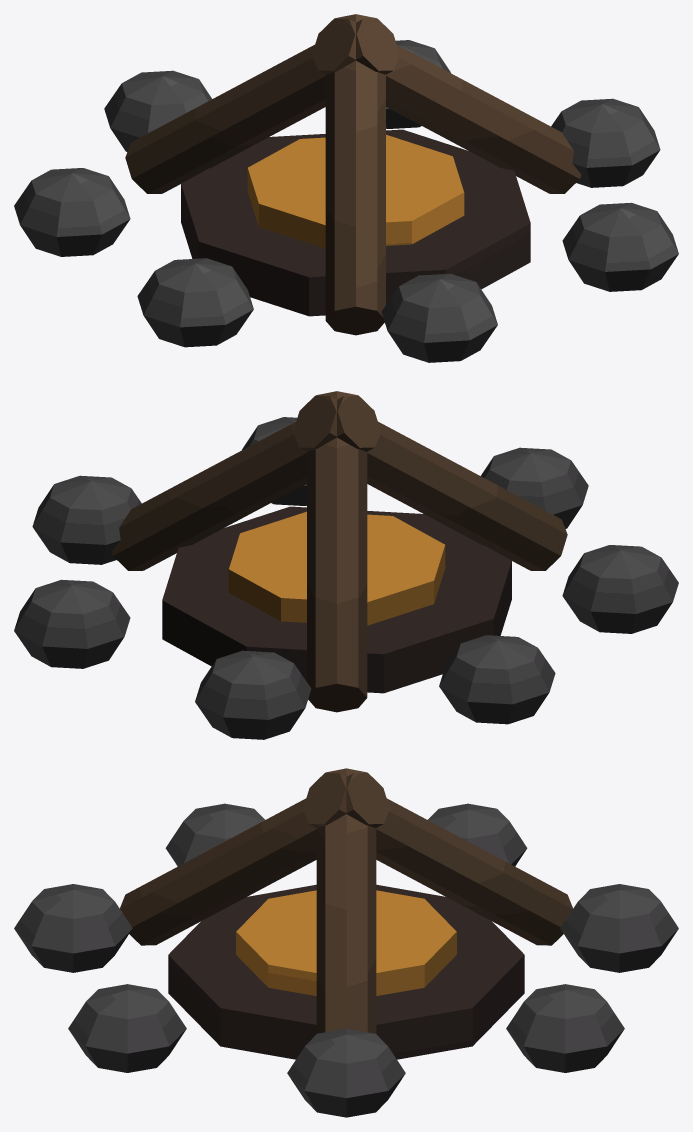
File: campfire.glb
3 views of the same model, one above another, from view 1: azimuth 30°, elevation 25°; view 2: azimuth 150°, elevation 25°; view 3: azimuth 270°, elevation 25° (orthographic).
Bounding box in the file's own units: 0.7673 × 0.2881 × 0.7835.
Materials: 1 (1 with a texture image).
